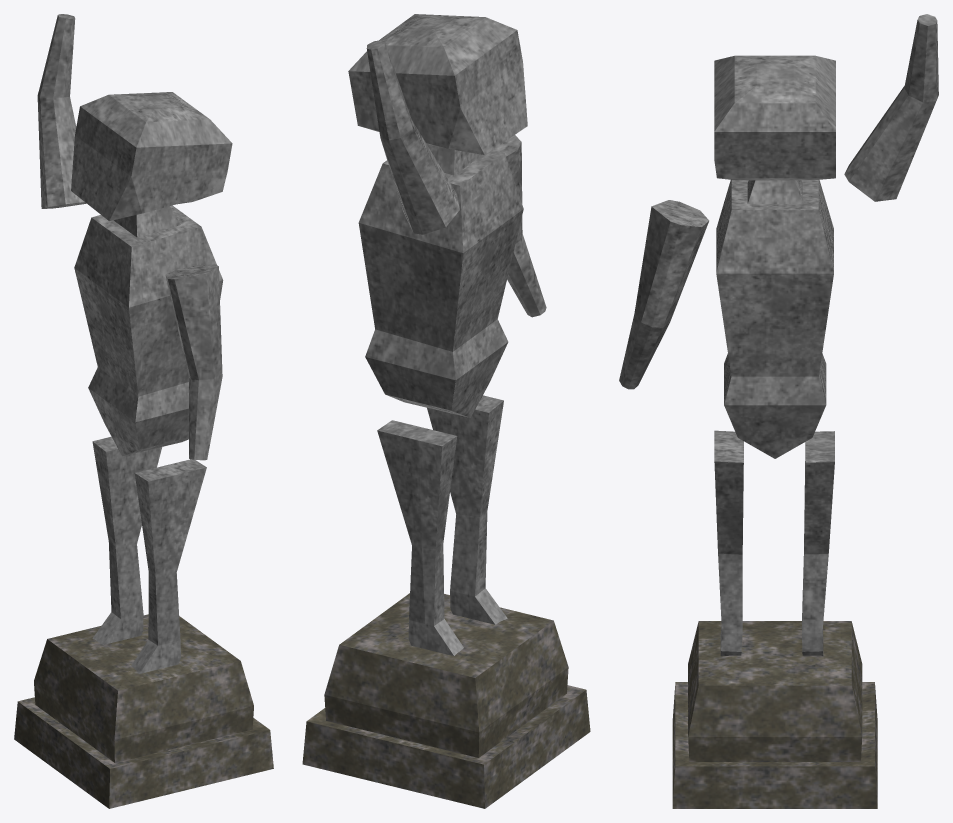
File: Totem_A.fbx
3 renders of one model, left to right at view 1: azimuth 30°, elevation 25°; view 2: azimuth 150°, elevation 25°; view 3: azimuth 270°, elevation 25°, orthographic. The views are drawn at different scales.
Parts seen in each view (by area): view 1: Totem_A; view 2: Totem_A; view 3: Totem_A.
Boxes of the visible parts, x1=… form: Totem_A: x1=14, y1=14, x2=273, y2=808; Totem_A: x1=302, y1=14, x2=590, y2=808; Totem_A: x1=619, y1=14, x2=938, y2=808.
Size of the model in its own units: 252 by 1009 by 393.
2 materials, 2 textured.
